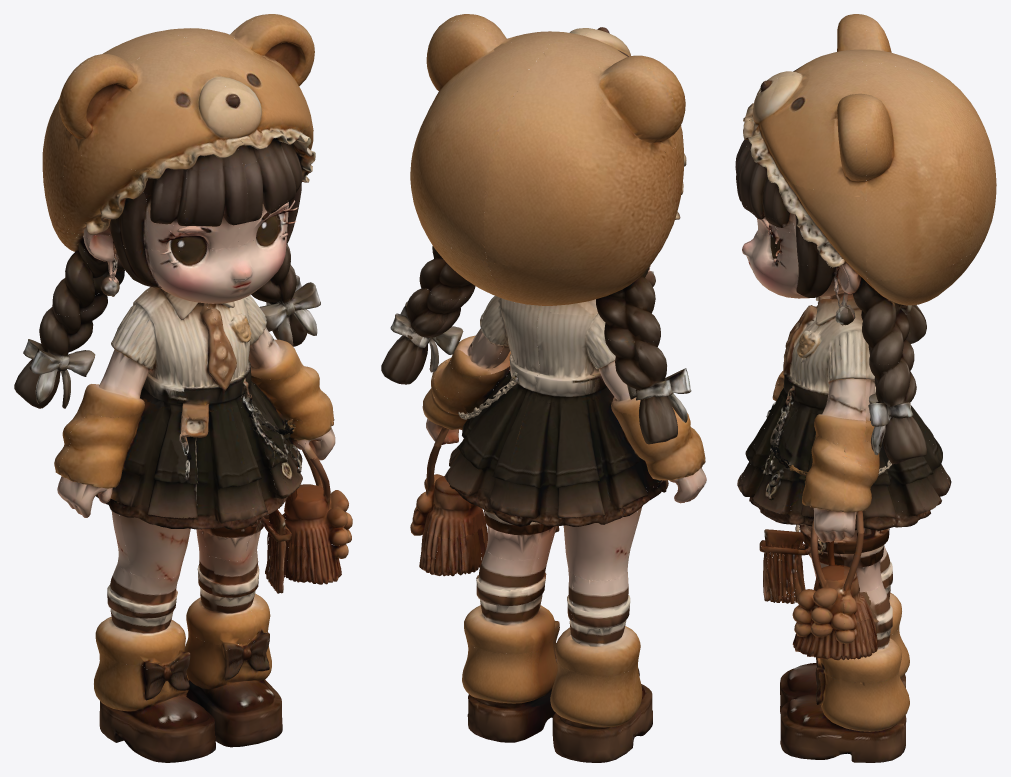
File: studio-visitor-bear-standing-v5.glb
3 renders of one model, left to right at view 1: azimuth 30°, elevation 25°; view 2: azimuth 150°, elevation 25°; view 3: azimuth 270°, elevation 25°, orthographic. The views are drawn at different scales.
Visible parts, largest first — view 1: Standing bear; view 2: Standing bear; view 3: Standing bear.
Boxes of the visible parts, box(x1,y1,x2,y2) form: Standing bear: box(14, 14, 352, 762); Standing bear: box(381, 14, 706, 762); Standing bear: box(735, 14, 996, 762).
Size of the model in its own units: 0.566 by 1.27 by 0.4475.
Materials: 5 (5 with a texture image).
